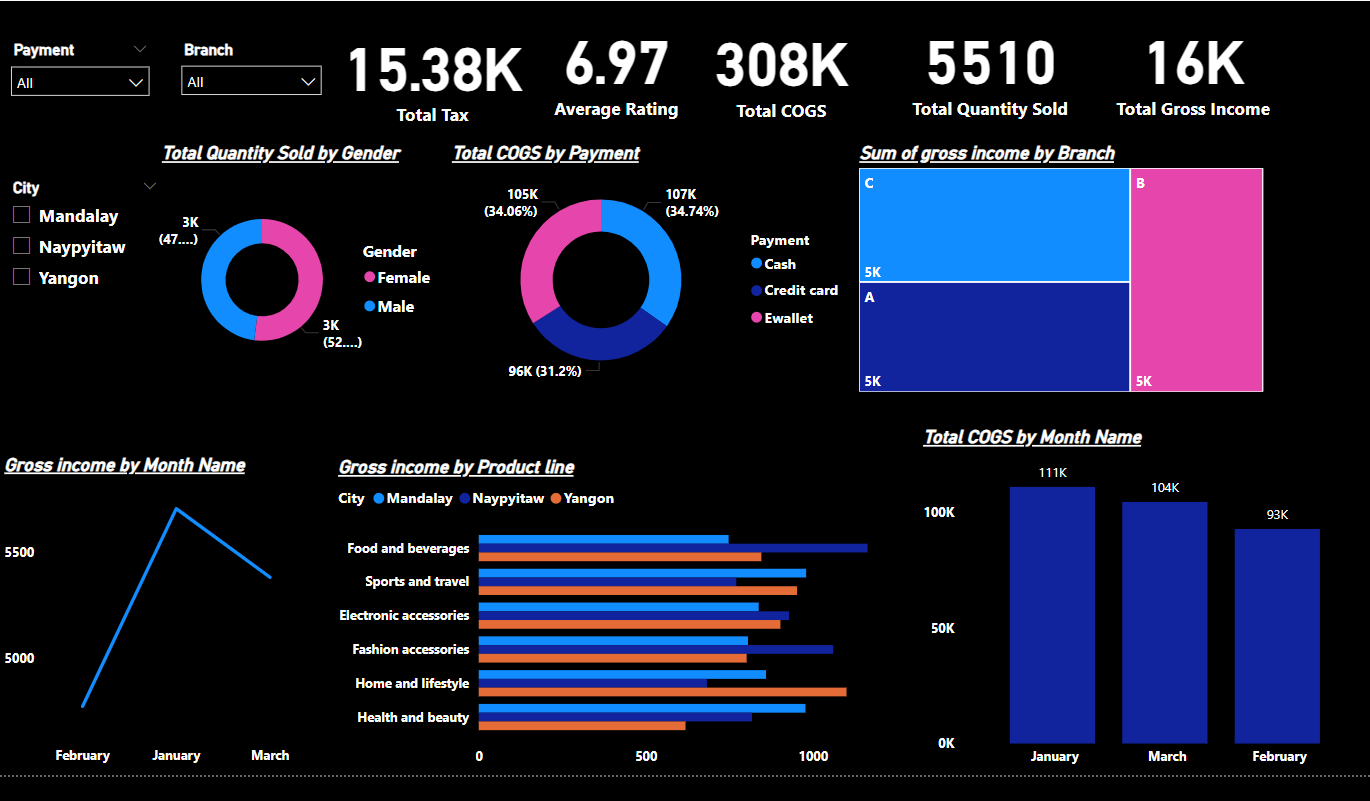

This screenshot's page, from the dashboard's own definition file:
{"tool":"powerbi","page":{"name":"Walmart Sales Dashboard","canvas":[1280,720],"ordinal":0},"visuals":[{"type":"slicer","fields":{"Values":["WalmartSalesData csv.Payment"]},"box":[25,537.5,151.6,65.6],"z":0},{"type":"slicer","fields":{"Values":["WalmartSalesData csv.Branch"]},"box":[334.4,14.1,151.6,64.1],"z":1000},{"type":"card","fields":{"Values":["WalmartSalesData csv.Total COGS"]},"box":[176.6,0,150,114.1],"z":2000},{"type":"card","fields":{"Values":["WalmartSalesData csv.Total Quantity Sold"]},"box":[925,0,162.5,114.1],"z":3000},{"type":"clusteredColumnChart","fields":{"Category":["WalmartSalesData csv.Month Name"],"Y":["WalmartSalesData csv.Total COGS"]},"box":[759.4,420.3,520.3,300],"z":4000},{"type":"clusteredBarChart","title":"Gross income by Product line","fields":{"Category":["WalmartSalesData csv.Product line"],"Y":["Sum(WalmartSalesData csv.gross income)"],"Series":["WalmartSalesData csv.City"]},"box":[312.5,420.3,434.4,300],"z":5000},{"type":"donutChart","fields":{"Series":["WalmartSalesData csv.Payment"],"Y":["WalmartSalesData csv.Total COGS"]},"box":[312.5,157.8,434.4,237.5],"z":6000},{"type":"treemap","fields":{"Group":["WalmartSalesData csv.Branch"],"Values":["Sum(WalmartSalesData csv.gross income)"]},"box":[0,157.8,292.2,237.5],"z":7000},{"type":"slicer","fields":{"Values":["WalmartSalesData csv.City"]},"box":[734.9,9.3,159.3,60.5],"z":8000},{"type":"lineChart","title":"Gross income by Month Name","fields":{"Category":["WalmartSalesData csv.Month Name"],"Y":["Sum(WalmartSalesData csv.gross income)"]},"box":[0,421.3,292.3,299.1],"z":9000},{"type":"donutChart","fields":{"Category":["WalmartSalesData csv.Gender"],"Y":["WalmartSalesData csv.Total Quantity Sold"]},"box":[759.4,157.8,506.2,237.5],"z":10000},{"type":"card","fields":{"Values":["WalmartSalesData csv.Average Rating"]},"box":[14.1,0,145.3,114.1],"z":11000},{"type":"card","fields":{"Values":["WalmartSalesData csv.Total Gross Income"]},"box":[1100,0,165.6,114.1],"z":12000},{"type":"textbox","box":[485.9,0,248.4,78.1],"z":13000}]}

Visuals, with their boxes on the page's 1280x720 design canvas (x1, y1, x2, y2). These are canvas units, not pixel positions in the 1370x801 screenshot, which may show the page scaled, cropped or inside an application window:
slicer - WalmartSalesData csv.Payment: {"left": 25, "top": 538, "right": 177, "bottom": 603}
slicer - WalmartSalesData csv.Branch: {"left": 334, "top": 14, "right": 486, "bottom": 78}
card - WalmartSalesData csv.Total COGS: {"left": 177, "top": 0, "right": 327, "bottom": 114}
card - WalmartSalesData csv.Total Quantity Sold: {"left": 925, "top": 0, "right": 1088, "bottom": 114}
clusteredColumnChart - WalmartSalesData csv.Month Name x WalmartSalesData csv.Total COGS: {"left": 759, "top": 420, "right": 1280, "bottom": 720}
"Gross income by Product line" clusteredBarChart: {"left": 312, "top": 420, "right": 747, "bottom": 720}
donutChart - WalmartSalesData csv.Payment x WalmartSalesData csv.Total COGS: {"left": 312, "top": 158, "right": 747, "bottom": 395}
treemap - WalmartSalesData csv.Branch x Sum(WalmartSalesData csv.gross income): {"left": 0, "top": 158, "right": 292, "bottom": 395}
slicer - WalmartSalesData csv.City: {"left": 735, "top": 9, "right": 894, "bottom": 70}
"Gross income by Month Name" lineChart: {"left": 0, "top": 421, "right": 292, "bottom": 720}
donutChart - WalmartSalesData csv.Gender x WalmartSalesData csv.Total Quantity Sold: {"left": 759, "top": 158, "right": 1266, "bottom": 395}
card - WalmartSalesData csv.Average Rating: {"left": 14, "top": 0, "right": 159, "bottom": 114}
card - WalmartSalesData csv.Total Gross Income: {"left": 1100, "top": 0, "right": 1266, "bottom": 114}
textbox: {"left": 486, "top": 0, "right": 734, "bottom": 78}
